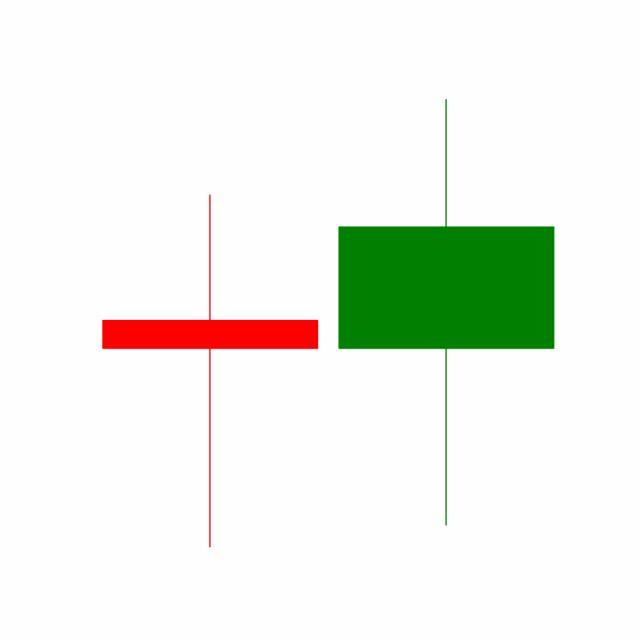Spinning Top: (328, 95, 566, 531)
